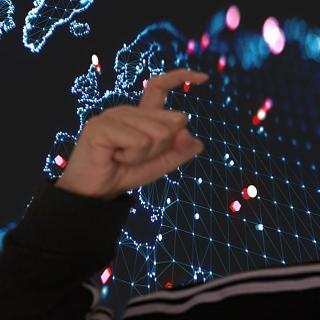WHY: (54, 63, 211, 196)
